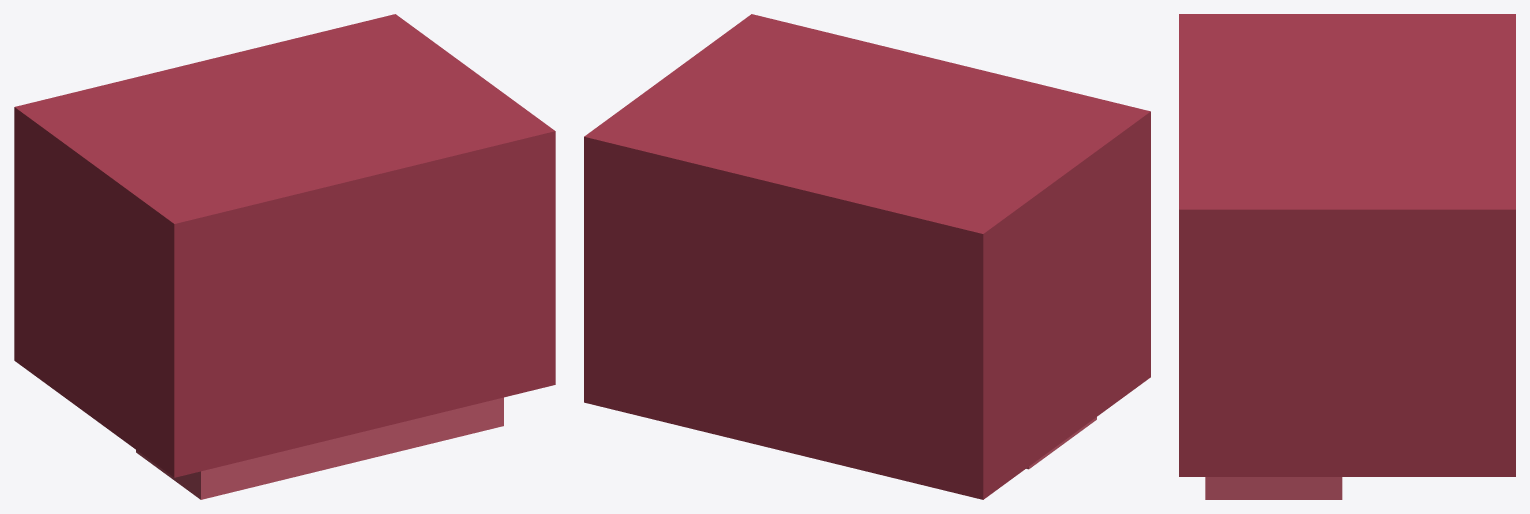
Rendered from battery_v01.glb.
3 views of the same model, side by side, from view 1: azimuth 30°, elevation 25°; view 2: azimuth 150°, elevation 25°; view 3: azimuth 270°, elevation 25° (orthographic). The views are drawn at different scales.
Visible parts, largest first — view 1: box_0, box_1; view 2: box_0; view 3: box_0, box_1.
Boxes of the visible parts, x1,y1,x2,y2 form: box_0: (14, 14, 555, 477); box_1: (136, 397, 503, 499); box_0: (584, 14, 1150, 499); box_0: (1179, 14, 1515, 476); box_1: (1205, 477, 1342, 499).
Bounding box in the file's own units: 0.44 × 0.325 × 0.32.
